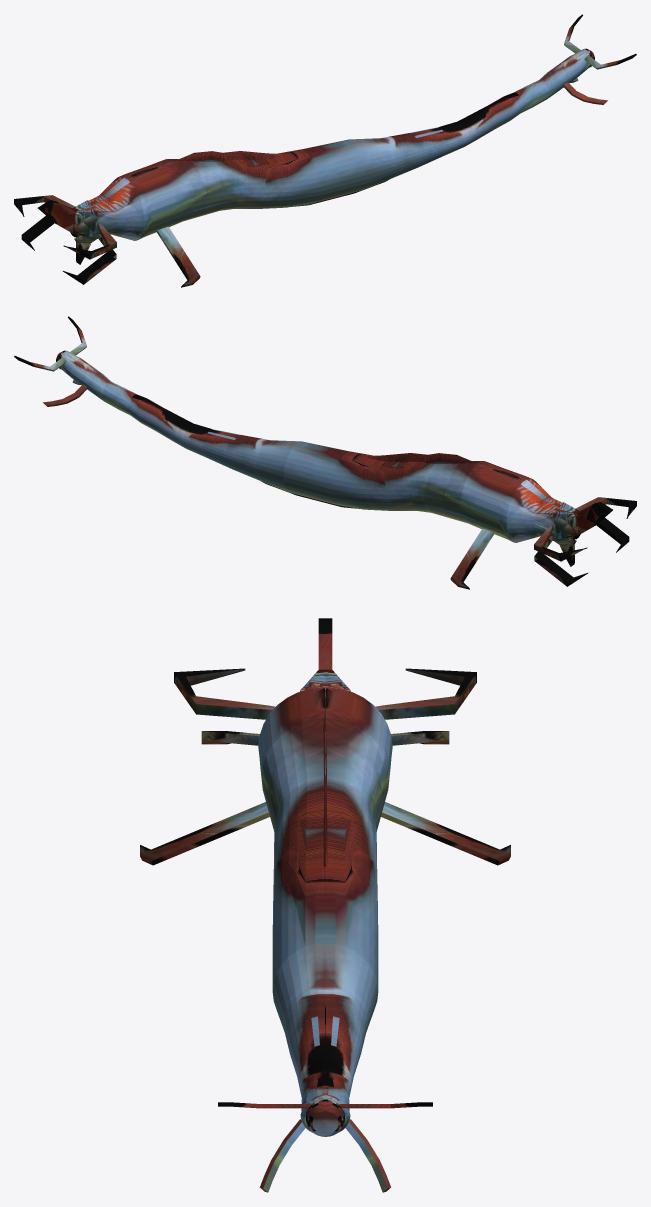
The model's file is reaper3.obj.
3 views of the same model, one above another, from view 1: azimuth 30°, elevation 25°; view 2: azimuth 150°, elevation 25°; view 3: azimuth 270°, elevation 25° (orthographic). The views are drawn at different scales.
Visible parts, largest first — view 1: Cylinder; view 2: Cylinder; view 3: Cylinder.
Boxes of the visible parts, x1=… form: Cylinder: x1=14, y1=14, x2=636, y2=287; Cylinder: x1=14, y1=316, x2=636, y2=589; Cylinder: x1=140, y1=618, x2=510, y2=1192.
Size of the model in its own units: 4.68 by 0.8194 by 1.32.
1 material, 1 textured.
